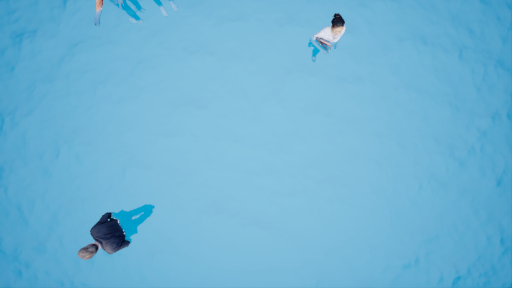person: (74, 204, 161, 257), (304, 11, 356, 66)
